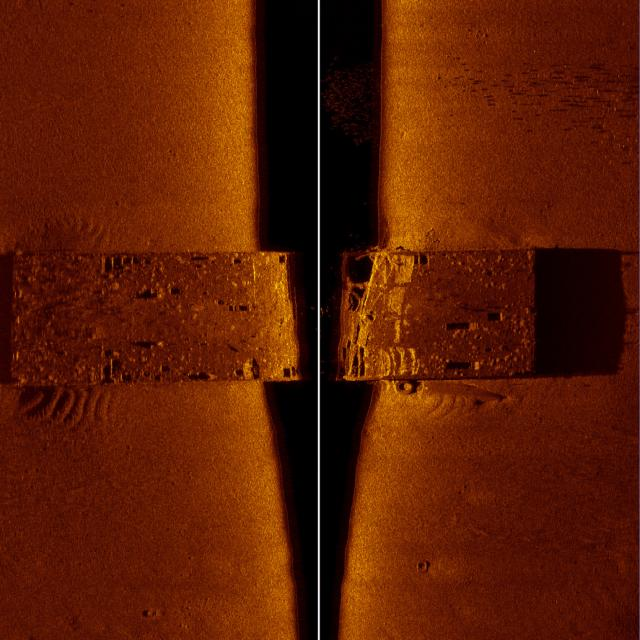other: (8, 232, 296, 375), (337, 240, 554, 398)
